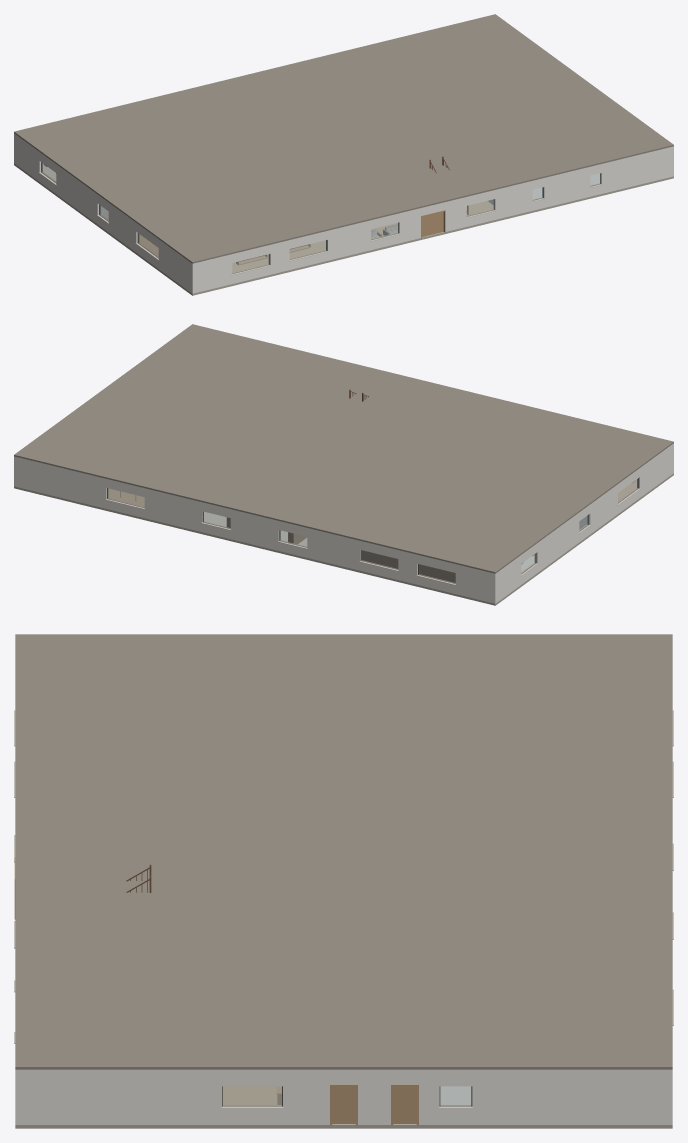
Rendered from library.glb.
3 views of the same model, one above another, from view 1: azimuth 30°, elevation 25°; view 2: azimuth 150°, elevation 25°; view 3: azimuth 270°, elevation 25° (orthographic). The views are drawn at different scales.
Parts seen in each view (by area): view 1: roof:roof, wall:shell, slab:slab, floor:r_children, door:d_main; view 2: roof:roof, wall:shell, slab:slab, furniture:shelf_5; view 3: roof:roof, wall:shell, slab:slab, window:window_10:glass, floor:r_staff, door:d_exit_e, door:d_service.
Part boxes in pixels (x1=…): roof:roof: x1=14, y1=14, x2=673, y2=263; wall:shell: x1=14, y1=133, x2=673, y2=293; slab:slab: x1=14, y1=163, x2=673, y2=295; floor:r_children: x1=139, y1=234, x2=325, y2=272; door:d_main: x1=422, y1=212, x2=443, y2=236; roof:roof: x1=14, y1=324, x2=673, y2=573; wall:shell: x1=14, y1=443, x2=673, y2=603; slab:slab: x1=14, y1=473, x2=673, y2=605; furniture:shelf_5: x1=362, y1=550, x2=455, y2=582; roof:roof: x1=15, y1=634, x2=672, y2=1069; wall:shell: x1=15, y1=1069, x2=672, y2=1124; slab:slab: x1=15, y1=1124, x2=672, y2=1128; window:window_10:glass: x1=223, y1=1086, x2=281, y2=1106; floor:r_staff: x1=222, y1=1086, x2=277, y2=1104; door:d_exit_e: x1=332, y1=1086, x2=355, y2=1123; door:d_service: x1=393, y1=1086, x2=416, y2=1123.
Size of the model in its own units: 50.42 by 4.21 by 32.42.
